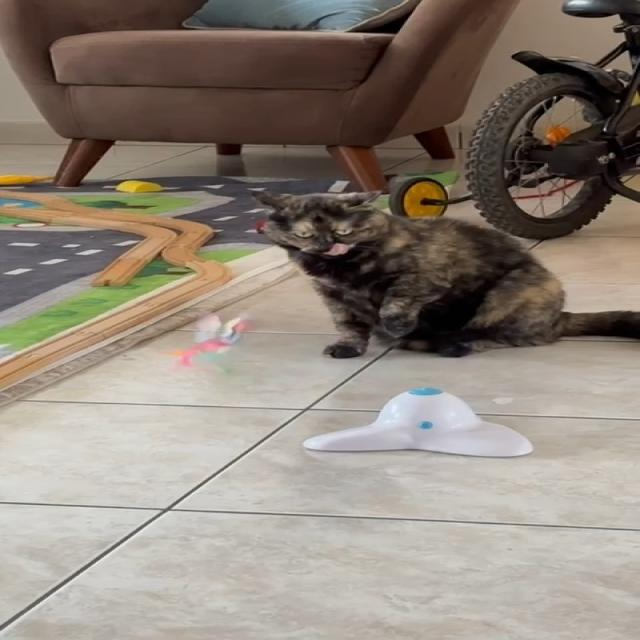authorized: (251, 188, 638, 358)
